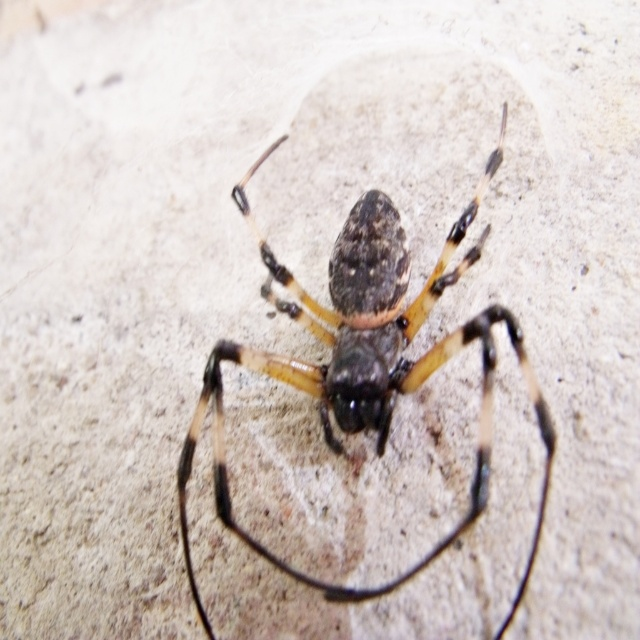Spider: (176, 101, 558, 640)
